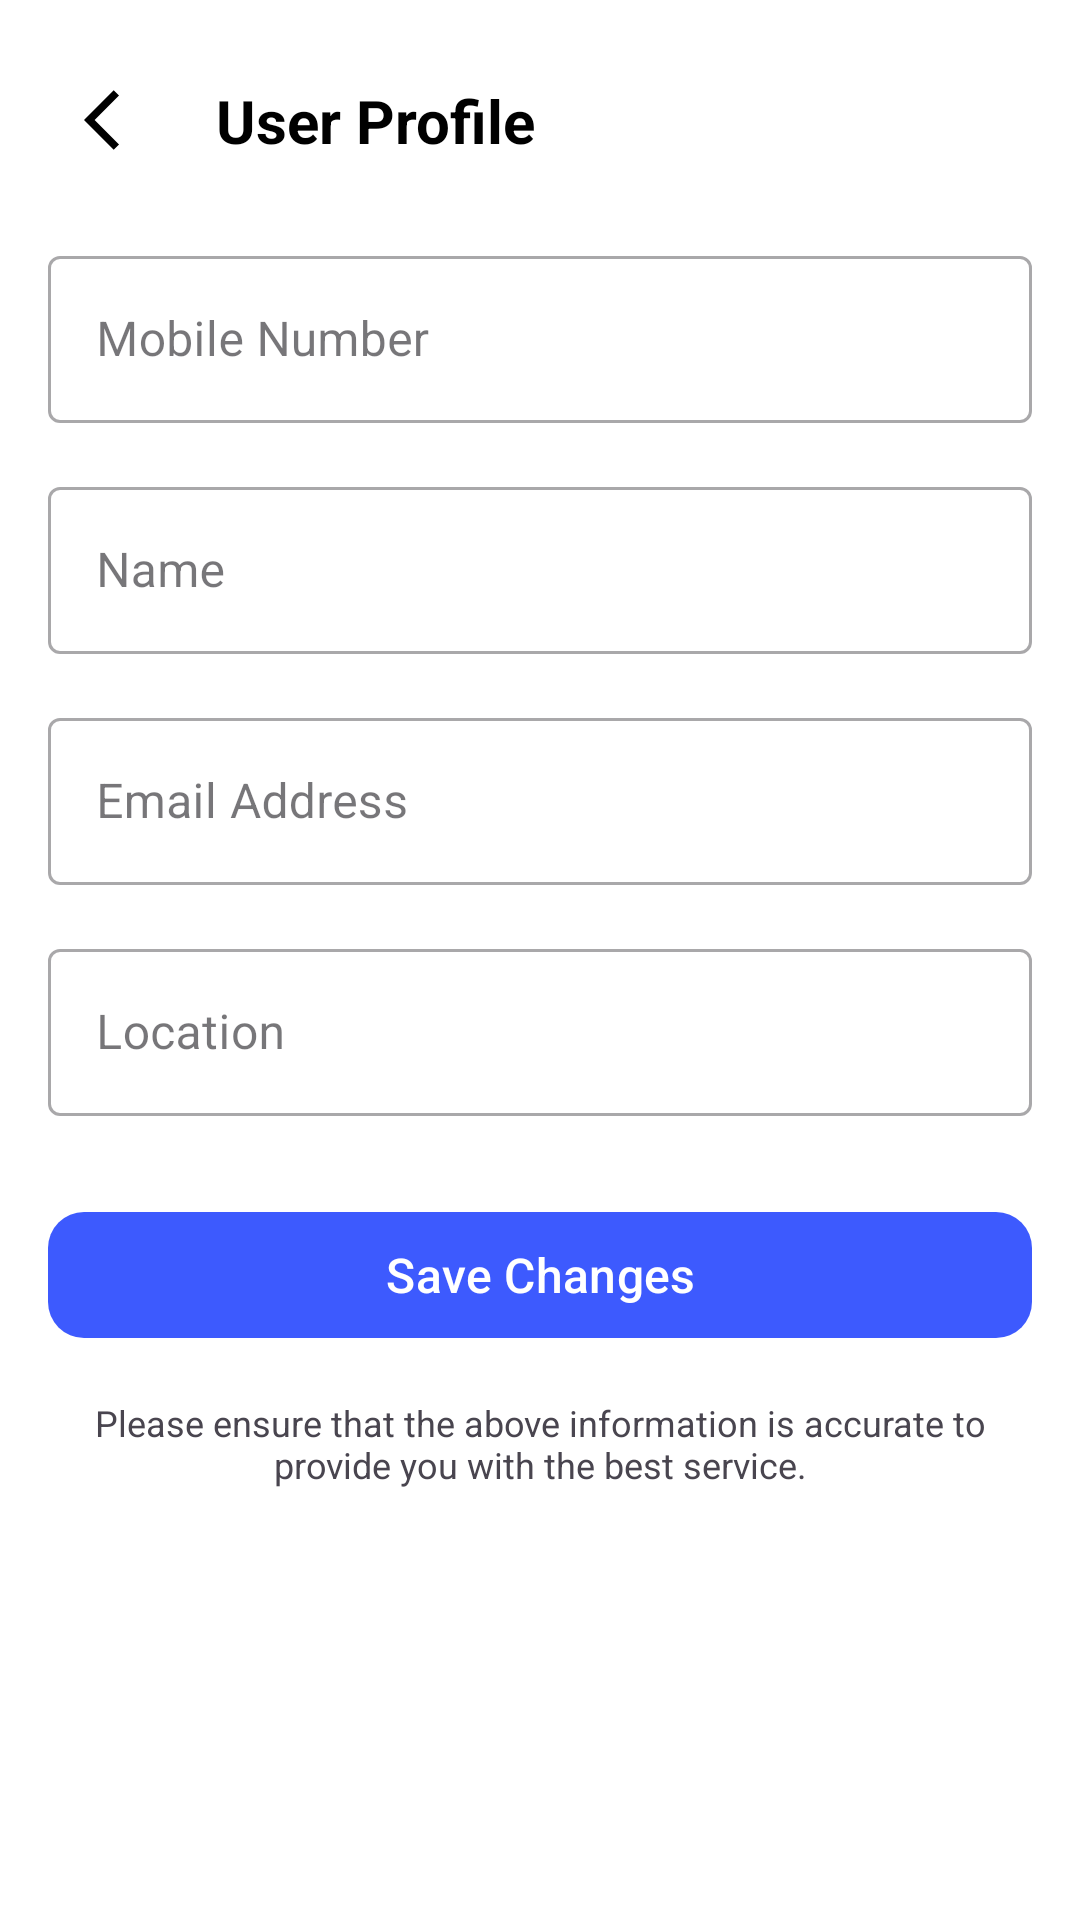

Locate icon controls on the screen. Image size 1080*1920, boxes as region(x1, y1, x2, y2).
back: region(84, 90, 119, 150)
